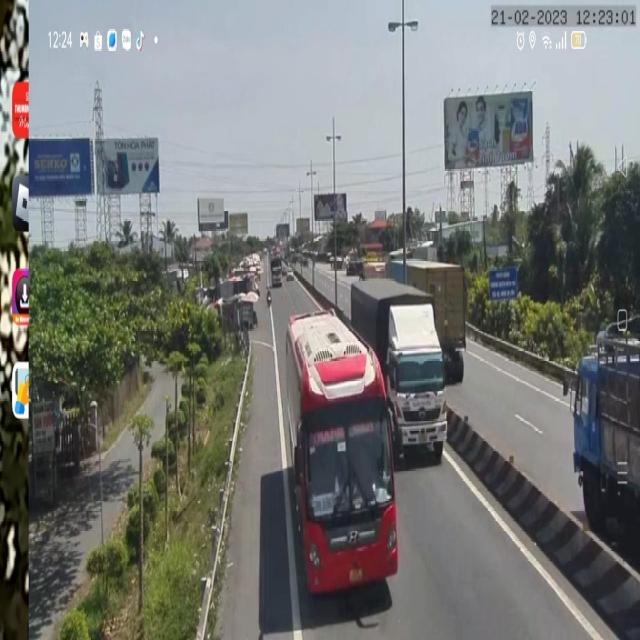bus: (283, 305, 401, 602)
truck: (349, 275, 448, 470), (569, 312, 640, 568), (365, 258, 465, 378)
